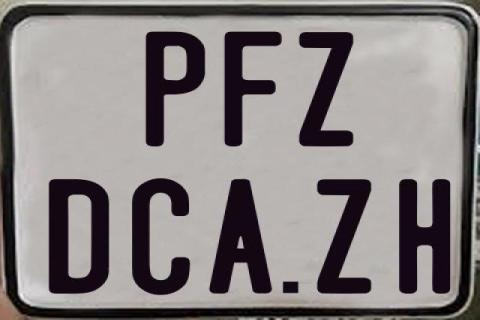A: (206, 178, 273, 292)
C: (131, 176, 195, 294)
D: (48, 178, 110, 292)
F: (224, 29, 282, 145)
H: (396, 179, 448, 295)
P: (146, 31, 211, 146)
Z: (314, 179, 372, 296), (298, 31, 356, 146)
